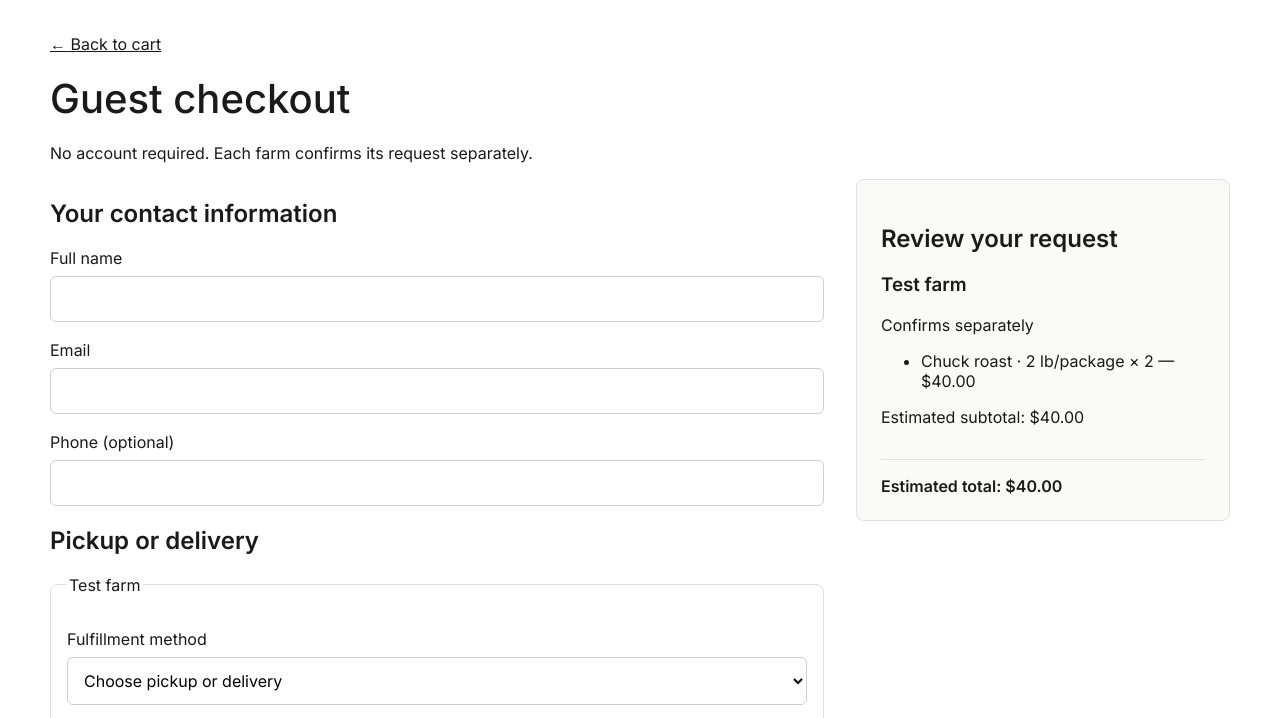
Scenario: unlocks a rejected delivery request and submits corrected details with a new ID
The image size is (1280, 718).
Type "Test shopper" into the field labelled "Full name" at point(437, 299), box left=50, top=276, right=824, bottom=322
Type "test@example.com" into the field labelled "Email" at point(437, 391), box left=50, top=368, right=824, bottom=414
Select "Delivery" in the dropdown labelled "Fulfillment method" at point(437, 681), box left=67, top=657, right=807, bottom=705
(page scrolled)
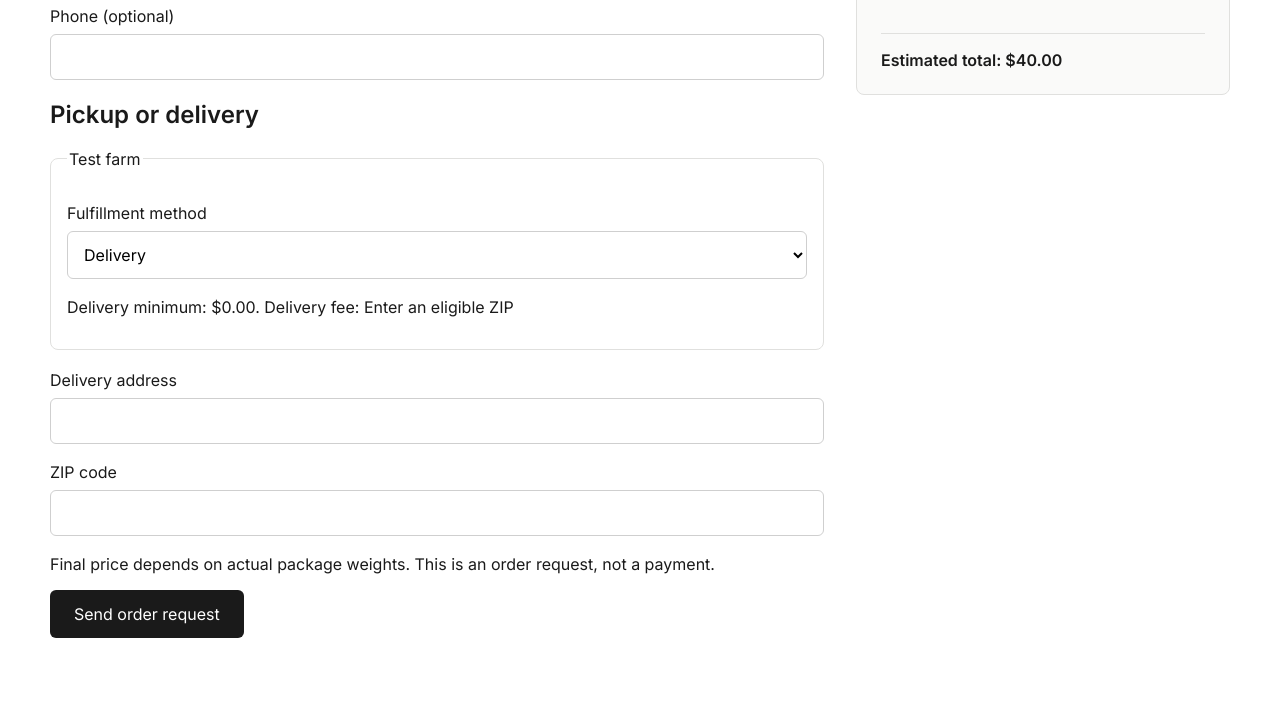
Type "123 Test Street" into the field labelled "Delivery address" at point(437, 421), box left=50, top=398, right=824, bottom=444
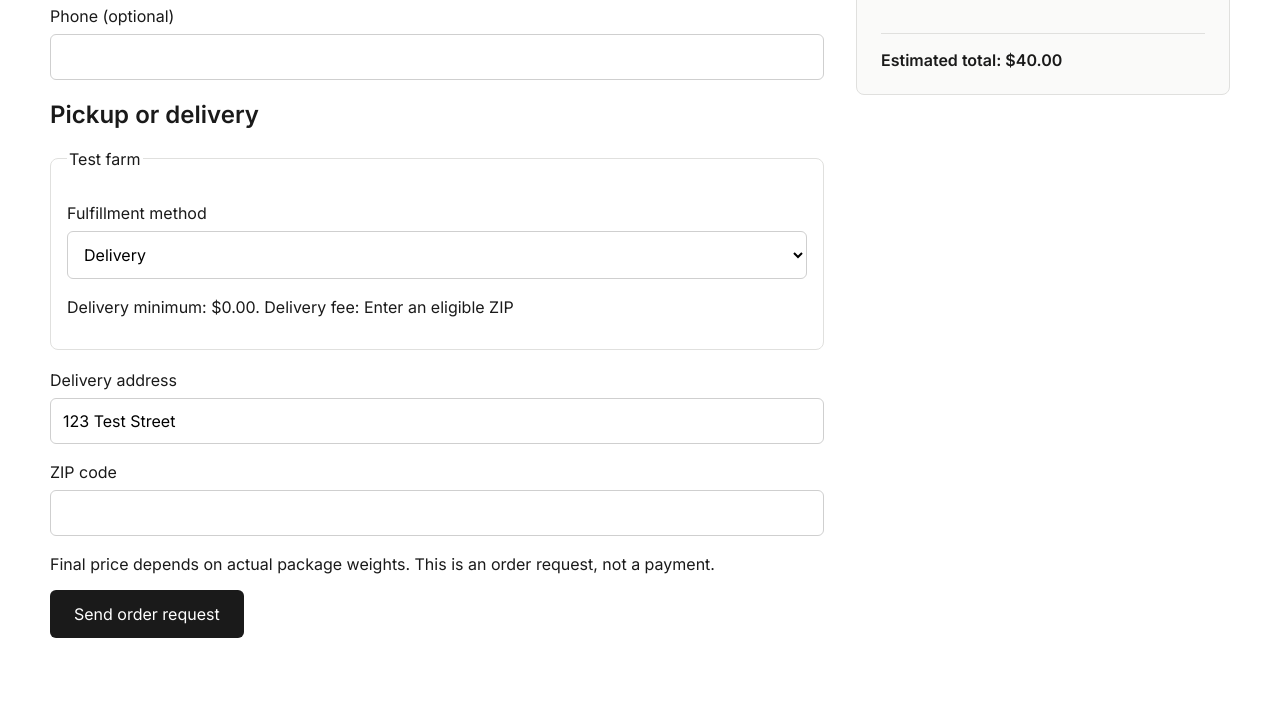
Type "98105" into the field labelled "ZIP code" at point(437, 513), box left=50, top=490, right=824, bottom=536
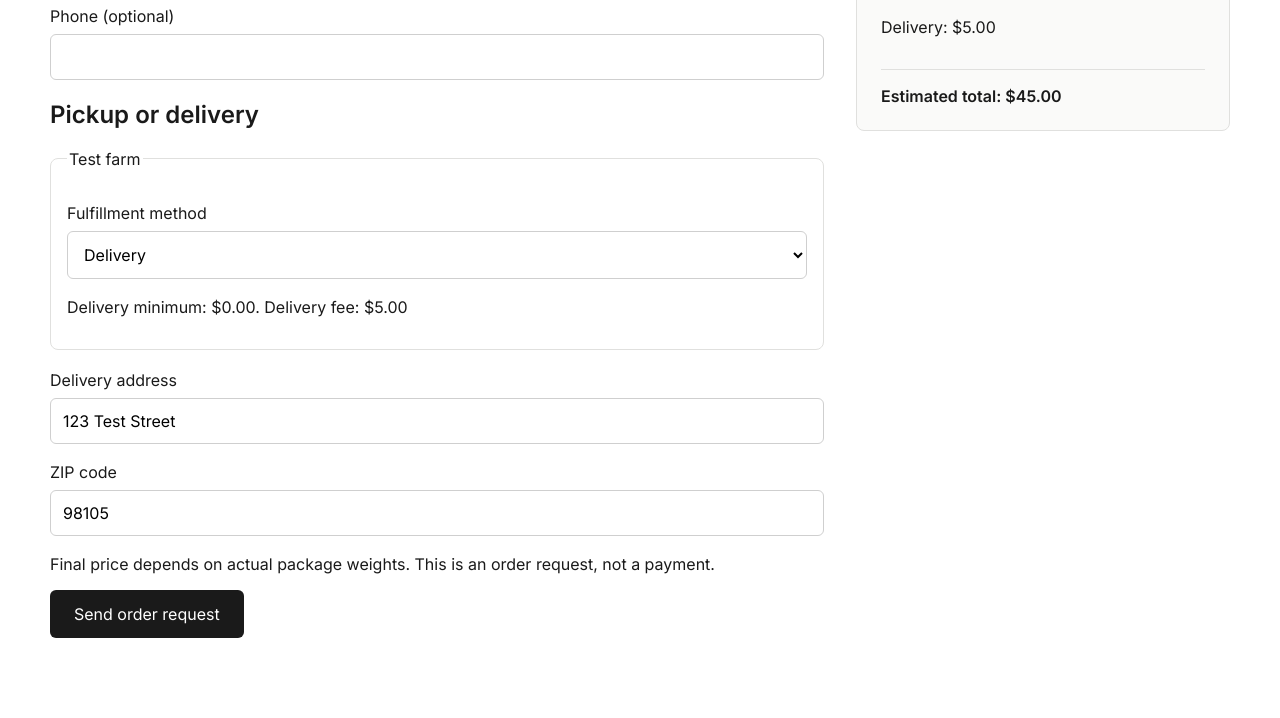
Click the button "Send order request" at point(147, 614), box left=50, top=590, right=244, bottom=638
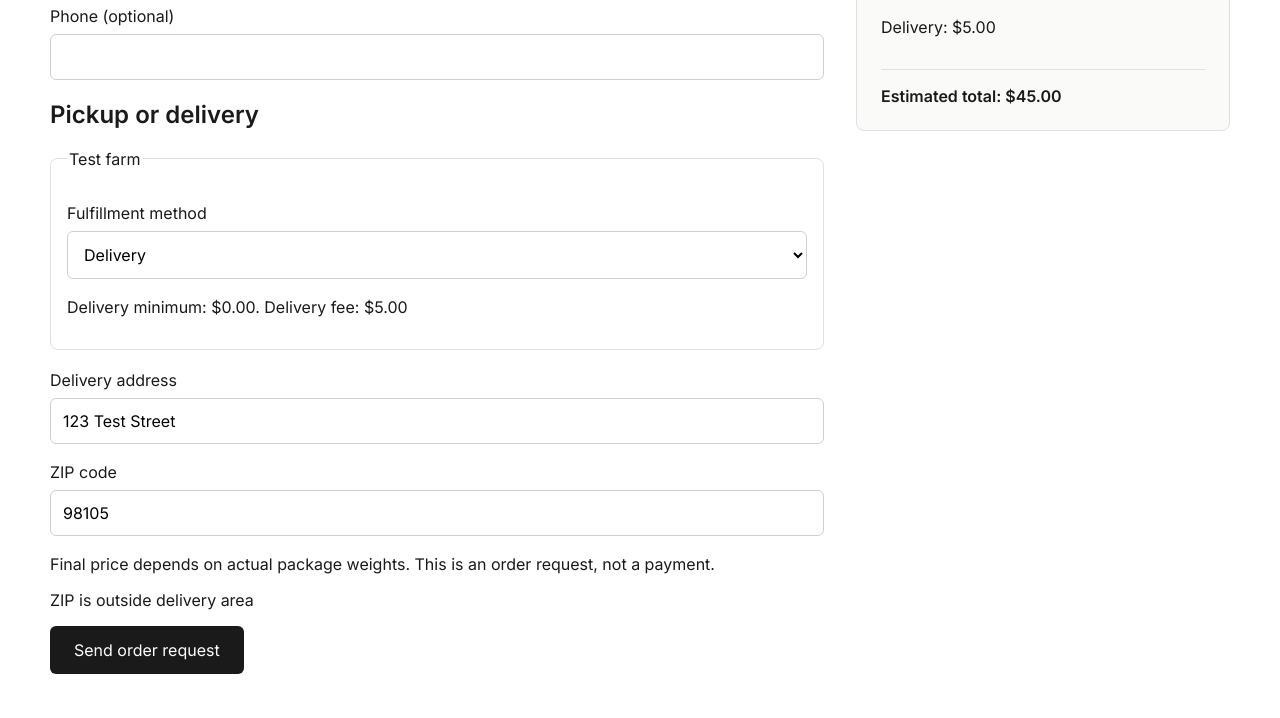
Expected: the field labelled "ZIP code" is enabled
Expected: the message shows "ZIP is outside", left=50, top=590, right=254, bottom=610
Replace the text in the field labelled "ZIP code" with "98115" at point(437, 513), box left=50, top=490, right=824, bottom=536
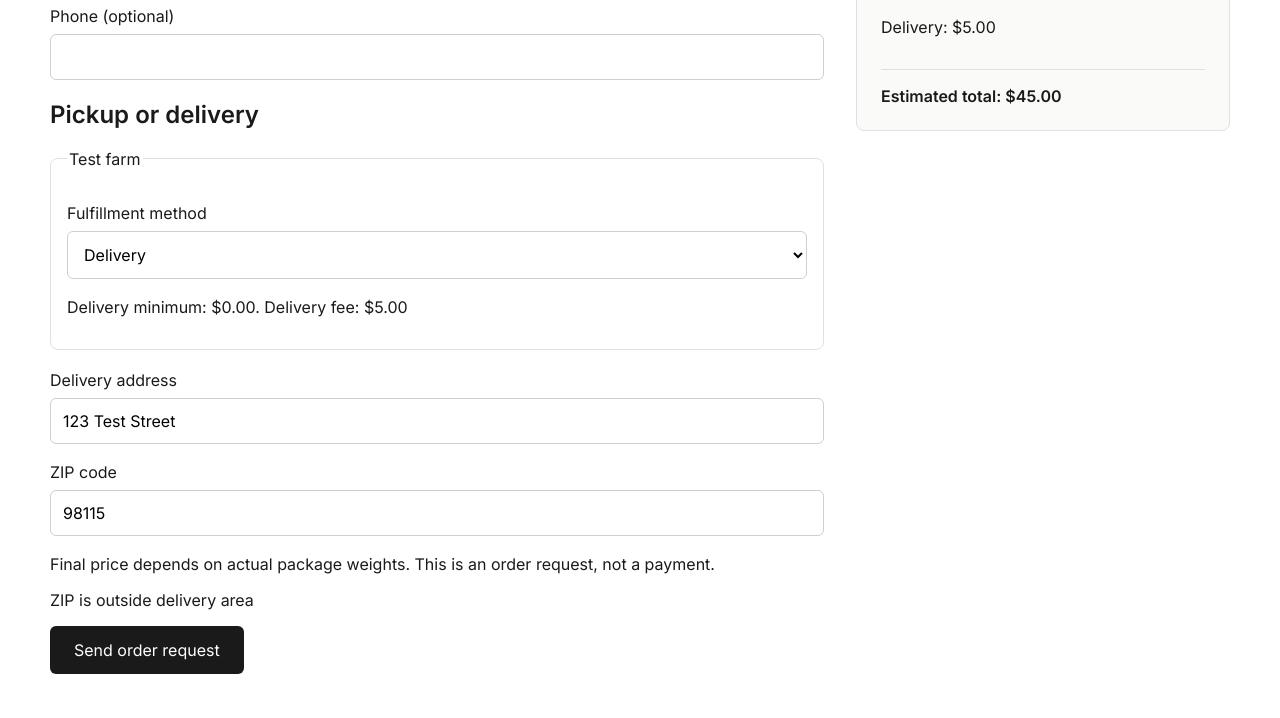
Click the button "Send order request" at point(147, 650), box left=50, top=626, right=244, bottom=674
(page scrolled)
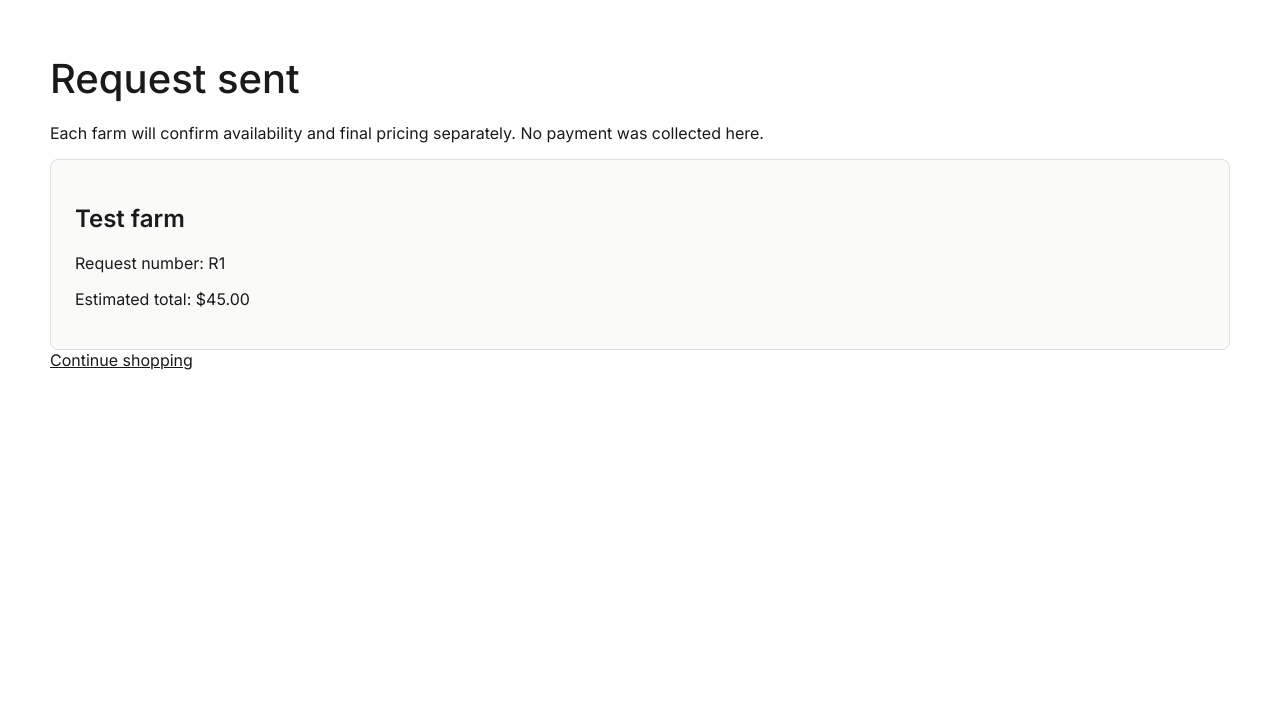
Expected: the heading "Request sent" is shown, left=50, top=54, right=300, bottom=103
